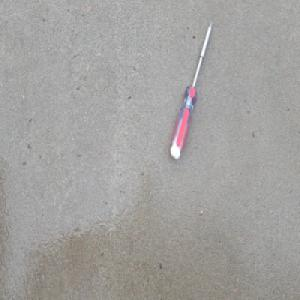Screwdriver: (169, 17, 214, 162)
